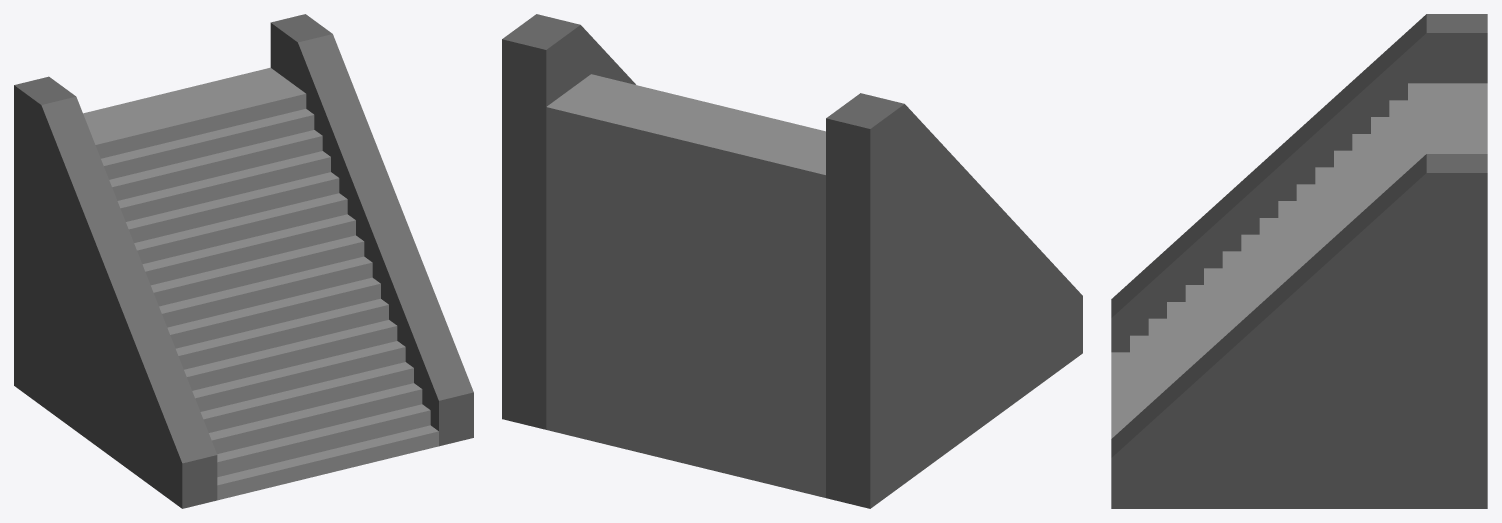
The model's file is Stairs_1_1_1.fbx.
3 views of the same model, side by side, from view 1: azimuth 30°, elevation 25°; view 2: azimuth 150°, elevation 25°; view 3: azimuth 270°, elevation 25° (orthographic). The views are drawn at different scales.
Visible parts, largest first — view 1: Stairs, Stairs_1_1_1; view 2: Stairs, Stairs_1_1_1; view 3: Stairs_1_1_1, Stairs.
Part boxes in pixels (box(x1,y1,x2,y2)): Stairs: box(83, 67, 438, 500); Stairs_1_1_1: box(14, 14, 473, 508); Stairs: box(546, 74, 825, 497); Stairs_1_1_1: box(502, 14, 1082, 508); Stairs_1_1_1: box(1111, 14, 1487, 508); Stairs: box(1111, 83, 1487, 438).
Size of the model in its own units: 160 by 157 by 160.
1 material, 1 textured.
